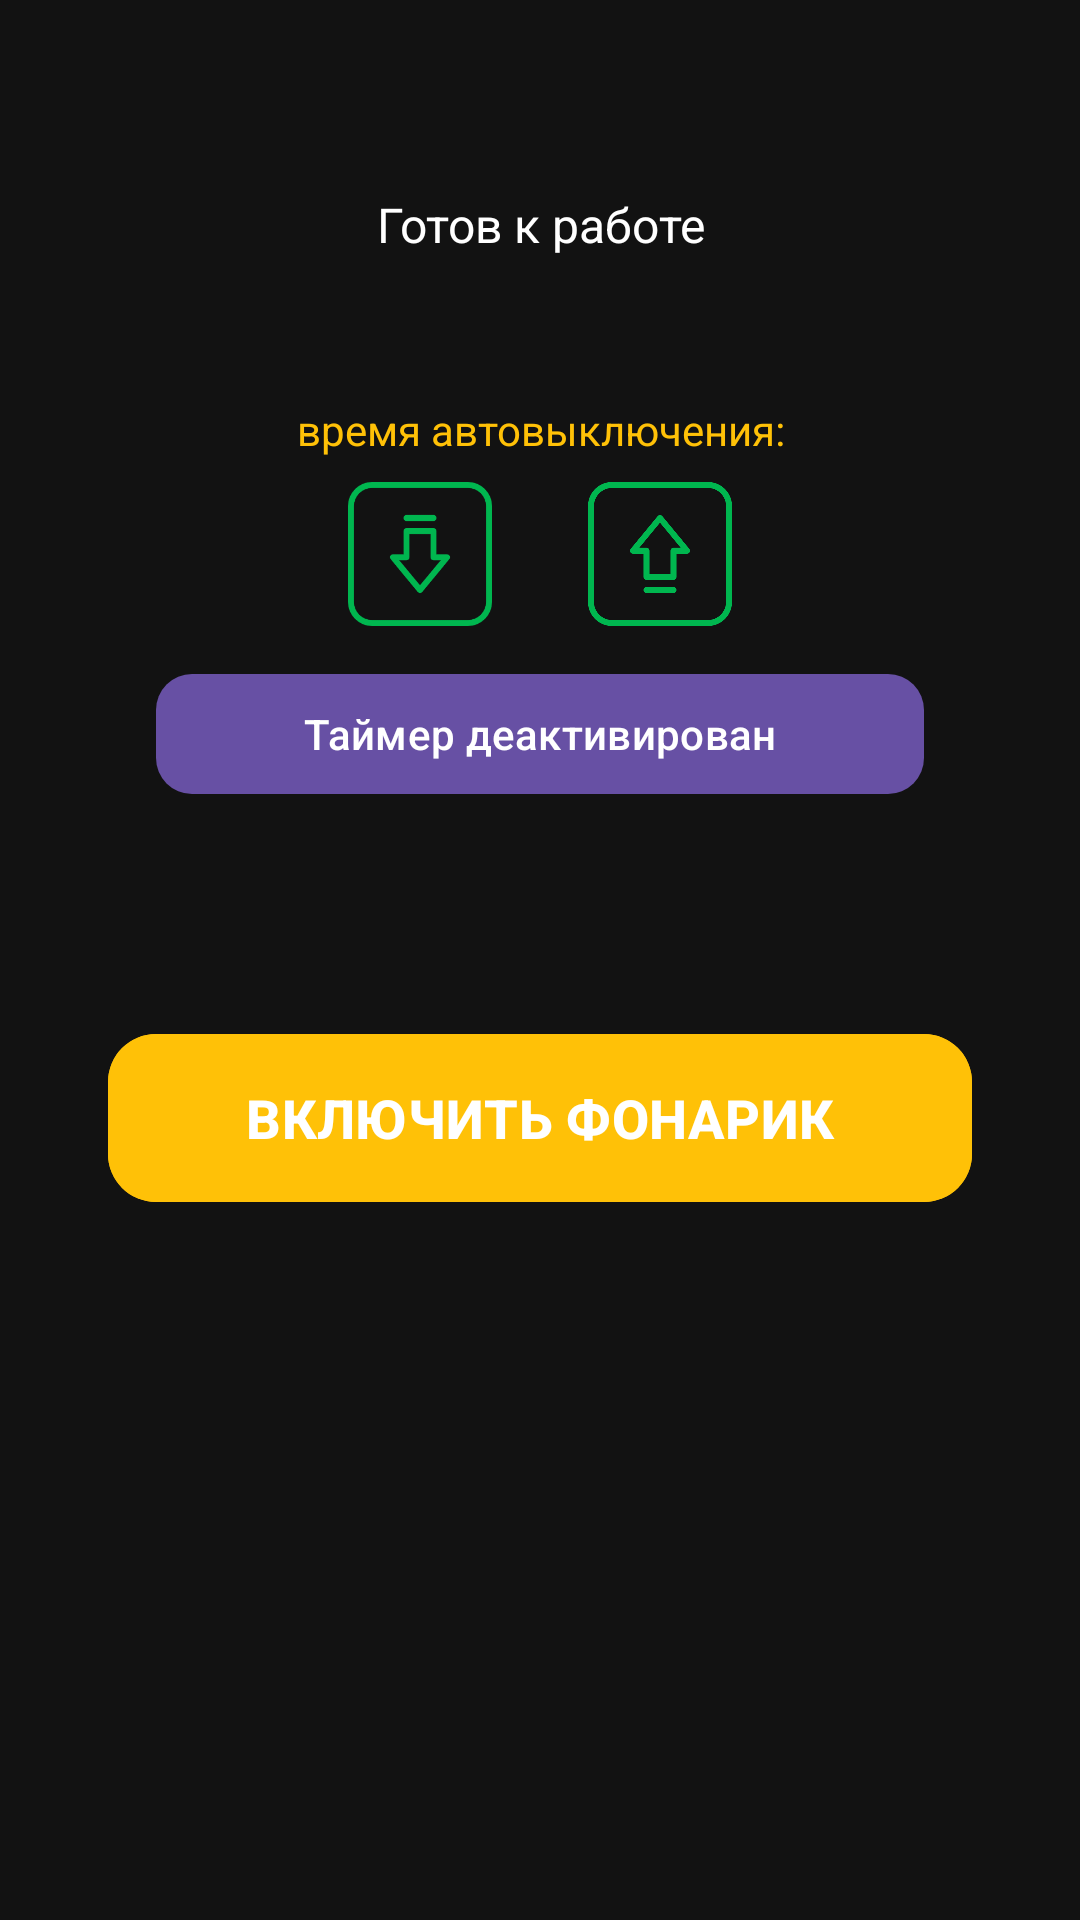

Icon click points for this 1080x1920 phone screenshot, format (x,y):
arrow down: (420,554)
arrow up: (660,554)
